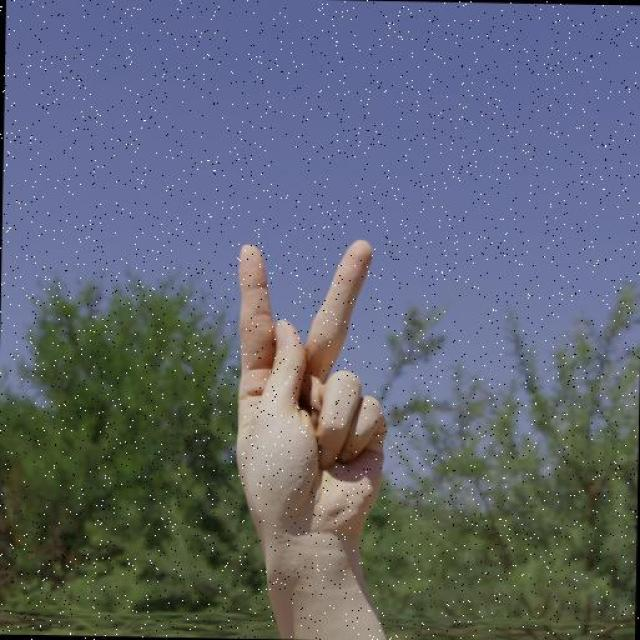K: (228, 237, 393, 544)
